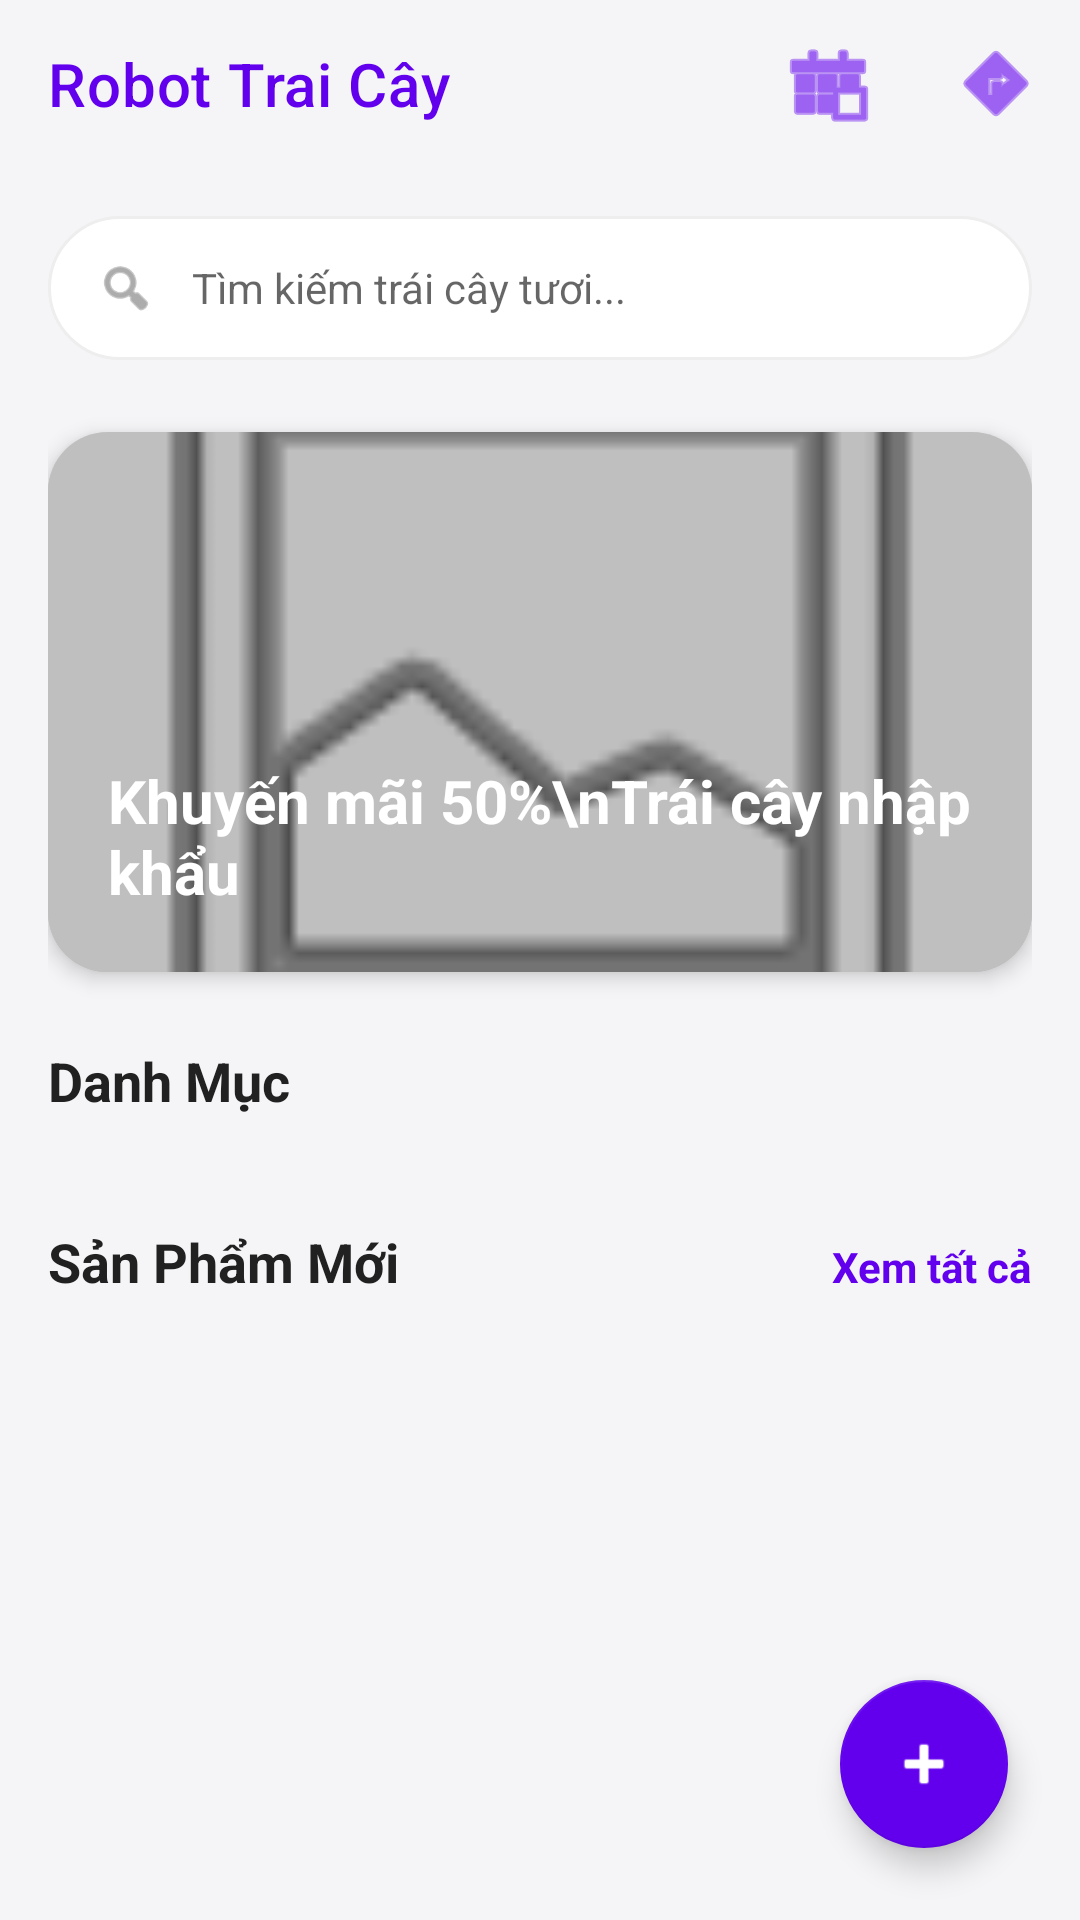

Where to tap for icons on this 1080w x 1920h app screen, as [x,y]:
add: [924,1764]
directions: [996,83]
search: [126,288]
today: [829,85]
